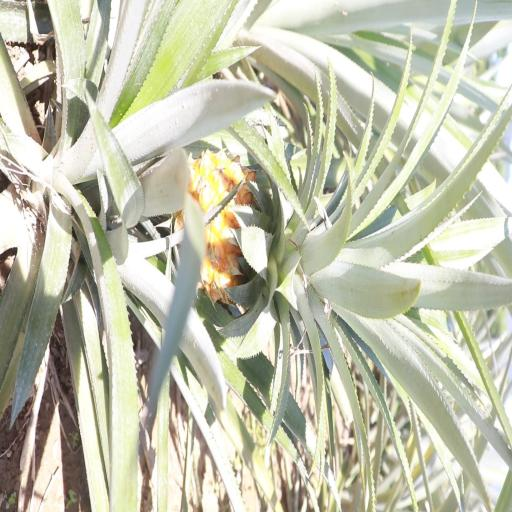Pineapple - v8 v1: (182, 145, 420, 321)
